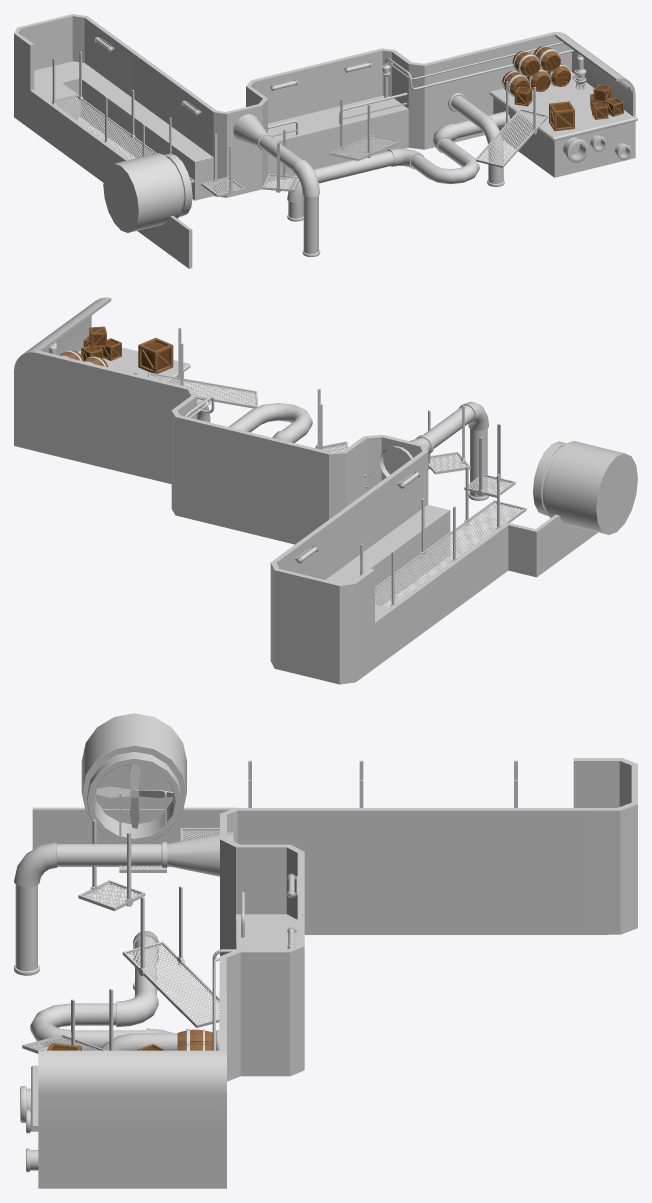
The model's file is Room3NonTextured.fbx.
3 views of the same model, one above another, from view 1: azimuth 30°, elevation 25°; view 2: azimuth 150°, elevation 25°; view 3: azimuth 270°, elevation 25° (orthographic). The views are drawn at different scales.
Parts seen in each view (by area): view 1: Area1.2 Platform 1.002, Cylinder.077, Pipe .005, Pipe .007, Mesh Flooring 1.003, Mesh Flooring 1.001, Pipe .006, Mesh Flooring 1.002, crate.005, Cylinder.063, barrel.004, barrel.005 (+10 smaller); view 2: Area1.2 Platform 1.002, Cylinder.077, Mesh Flooring 1.001, Pipe .007, Pipe .005, Mesh Flooring 1.003, crate.005, Cube.034, Cube.036, Cube.035; view 3: Area1.2 Platform 1.002, Cylinder.077, Pipe .007, Pipe .005, Mesh Flooring 1.002, Pipe .006, Area3_fan2.024, Cube.036, Cylinder.064.
Boxes of the visible parts, left/top/right/bottom form: Area1.2 Platform 1.002: left=14, top=14, right=637, bottom=268; Cylinder.077: left=103, top=153, right=192, bottom=232; Pipe .005: left=287, top=111, right=510, bottom=221; Pipe .007: left=233, top=114, right=320, bottom=256; Mesh Flooring 1.003: left=475, top=108, right=548, bottom=167; Mesh Flooring 1.001: left=55, top=96, right=191, bottom=180; Pipe .006: left=448, top=92, right=504, bottom=186; Mesh Flooring 1.002: left=330, top=135, right=401, bottom=160; crate.005: left=549, top=101, right=574, bottom=131; Cylinder.063: left=381, top=49, right=573, bottom=97; barrel.004: left=512, top=51, right=540, bottom=76; barrel.005: left=533, top=46, right=560, bottom=71; Area1.2 Platform 1.002: left=14, top=297, right=597, bottom=684; Cylinder.077: left=533, top=441, right=637, bottom=534; Mesh Flooring 1.001: left=375, top=502, right=522, bottom=607; Pipe .007: left=380, top=401, right=488, bottom=500; Pipe .005: left=228, top=403, right=312, bottom=442; Mesh Flooring 1.003: left=148, top=372, right=257, bottom=408; crate.005: left=138, top=337, right=173, bottom=373; Cube.034: left=375, top=500, right=526, bottom=607; Cube.036: left=429, top=452, right=470, bottom=474; Cube.035: left=464, top=474, right=515, bottom=497; Area1.2 Platform 1.002: left=31, top=758, right=637, bottom=1188; Cylinder.077: left=81, top=713, right=186, bottom=843; Pipe .007: left=14, top=830, right=233, bottom=975; Pipe .005: left=30, top=931, right=173, bottom=1050; Mesh Flooring 1.002: left=122, top=941, right=219, bottom=1027; Pipe .006: left=101, top=1030, right=219, bottom=1050; Area3_fan2.024: left=96, top=764, right=173, bottom=828; Cube.036: left=78, top=880, right=145, bottom=911; Cylinder.064: left=138, top=886, right=184, bottom=975.
Size of the model in its own units: 11251 by 2200 by 8520.
